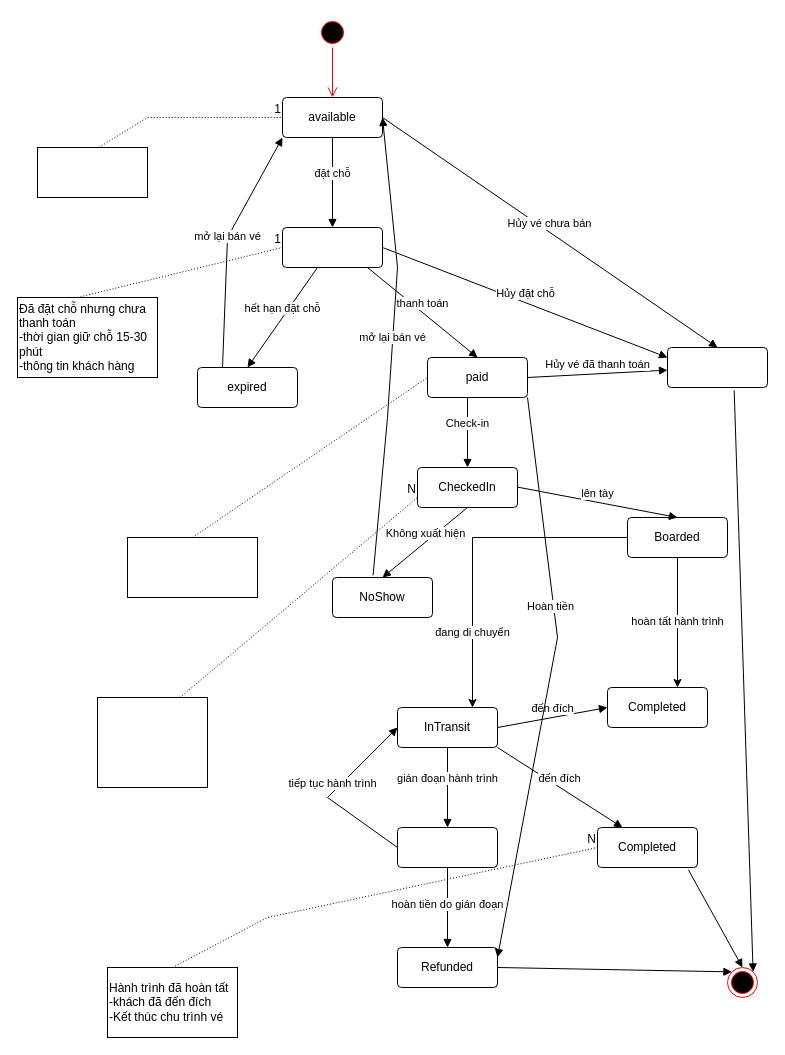
This 785x1055 diagram has some shape labels left out. The shapes that lost their labels are listed below. From the top down, each one's centre as x and y in pixels, then its label:
At pixel 92 172: "-vé có sẵn để bán -ghế trống -giá vé hiện tại".
At pixel 332 247: "reserved".
At pixel 717 367: "Entity".
At pixel 192 567: "Đã thanh toán thành công -vé hợp lệ -có thể check-in".
At pixel 152 742: "Đã làm thủ tục -xác nhận có mặt -sẵn sàng lên tàu".
At pixel 447 847: "Interrupted".
